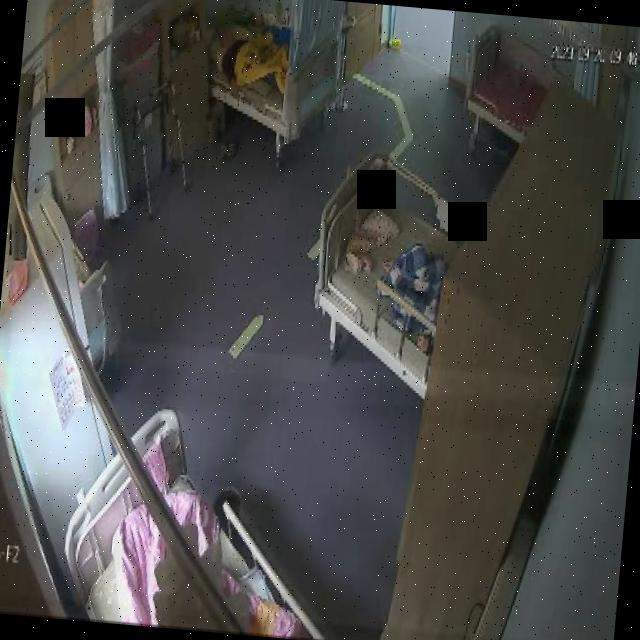bed: (57, 398, 318, 639), (309, 149, 472, 389), (204, 10, 344, 139), (460, 21, 552, 145)
walker: (125, 78, 197, 218)
